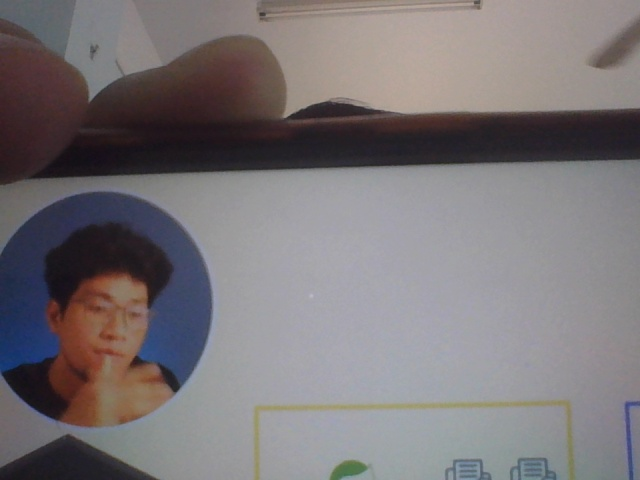fake: (47, 225, 171, 401)
